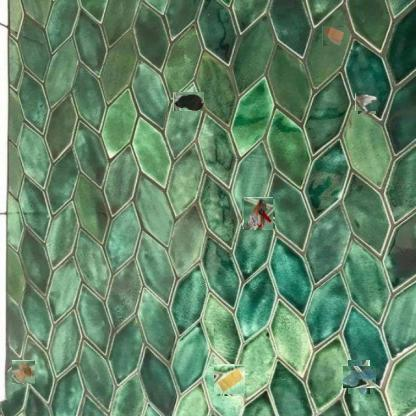dirty: (243, 198, 274, 230), (214, 365, 245, 395), (12, 360, 35, 384), (322, 26, 344, 46), (357, 92, 377, 113)
liquid: (345, 363, 373, 391), (173, 91, 204, 111)
